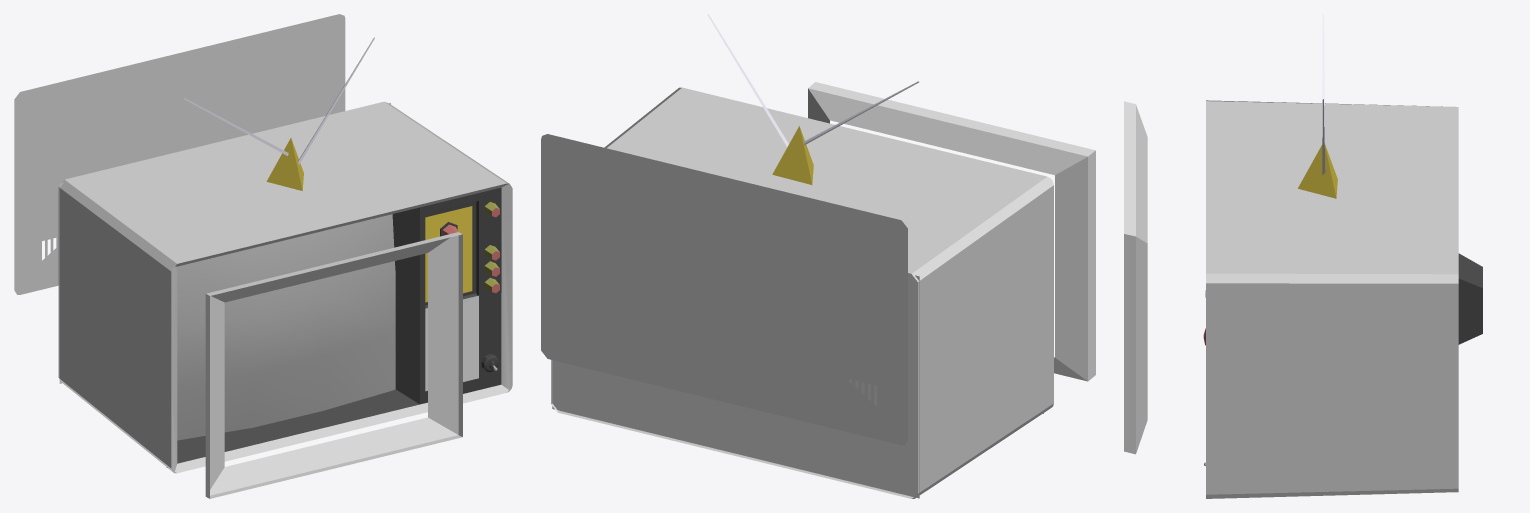
3 views of the same model, side by side, from view 1: azimuth 30°, elevation 25°; view 2: azimuth 150°, elevation 25°; view 3: azimuth 270°, elevation 25° (orthographic). The views are drawn at different scales.
Visible parts, largest first — view 1: Cube, Cube.005, Plane, Cube.004, Cube.001, Plane.004, Plane.001, Plane.006, Cone, Plane.003; view 2: Cube.005, Cube, Plane.005, Cube.004, Cone; view 3: Cube, Cube.004, Cube.003, Cone.
Boxes of the visible parts, x1,y1,x2,y2 form: Cube: [58, 101, 512, 473]; Cube.005: [14, 14, 345, 294]; Plane: [177, 214, 395, 440]; Cube.004: [205, 232, 462, 498]; Cube.001: [166, 207, 419, 467]; Plane.004: [420, 187, 501, 404]; Plane.001: [425, 206, 472, 302]; Plane.006: [425, 295, 478, 391]; Cone: [266, 138, 303, 190]; Plane.003: [425, 200, 478, 308]; Cube.005: [541, 134, 907, 445]; Cube: [551, 87, 1053, 498]; Plane.005: [552, 273, 919, 498]; Cube.004: [808, 82, 1095, 381]; Cone: [772, 126, 813, 184]; Cube: [1206, 100, 1458, 498]; Cube.004: [1124, 101, 1147, 454]; Cube.003: [1458, 253, 1482, 344]; Cone: [1298, 143, 1337, 198].
Size of the model in its own units: 370 by 334 by 330.
